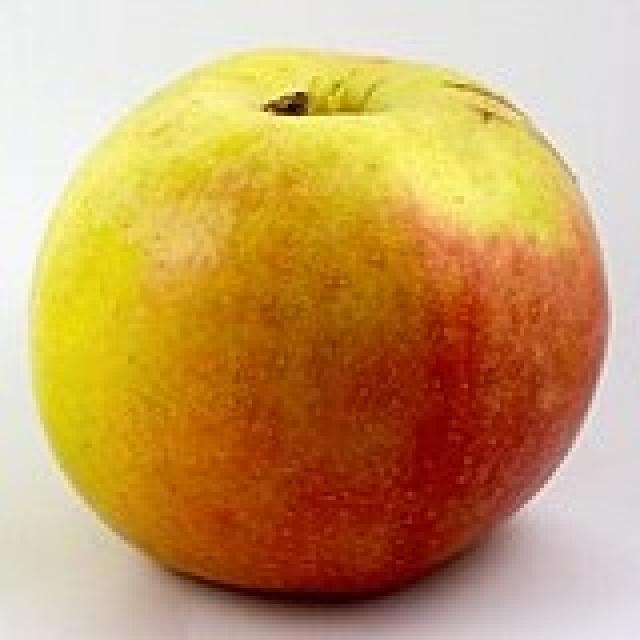apple: (30, 49, 607, 600)
